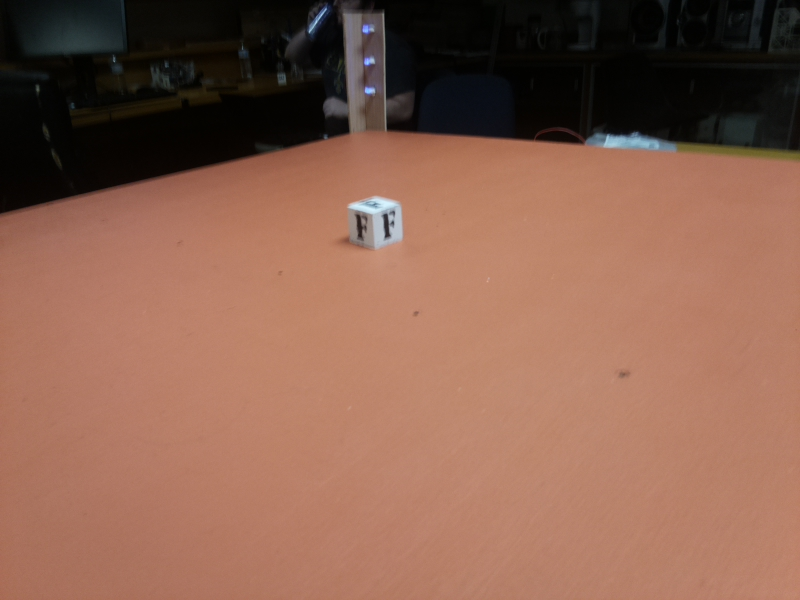blockF: (348, 191, 412, 252)
corner: (343, 11, 386, 141)
